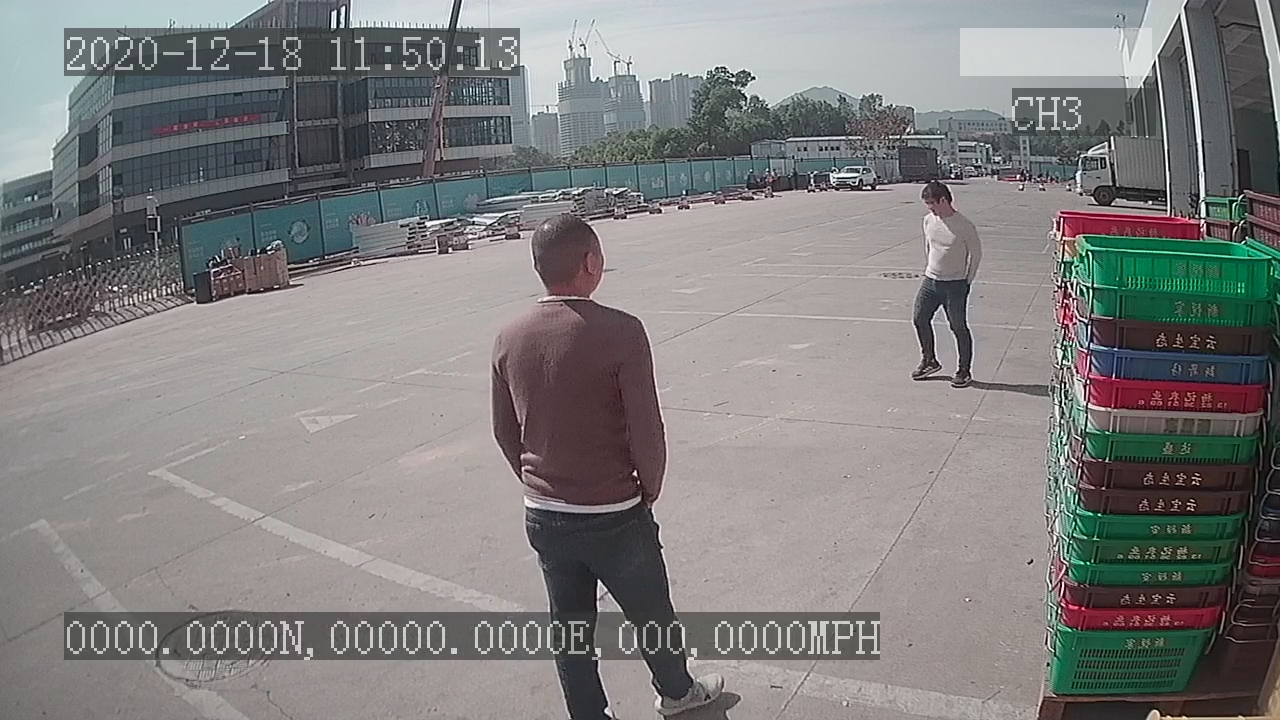person: (906, 179, 986, 392)
